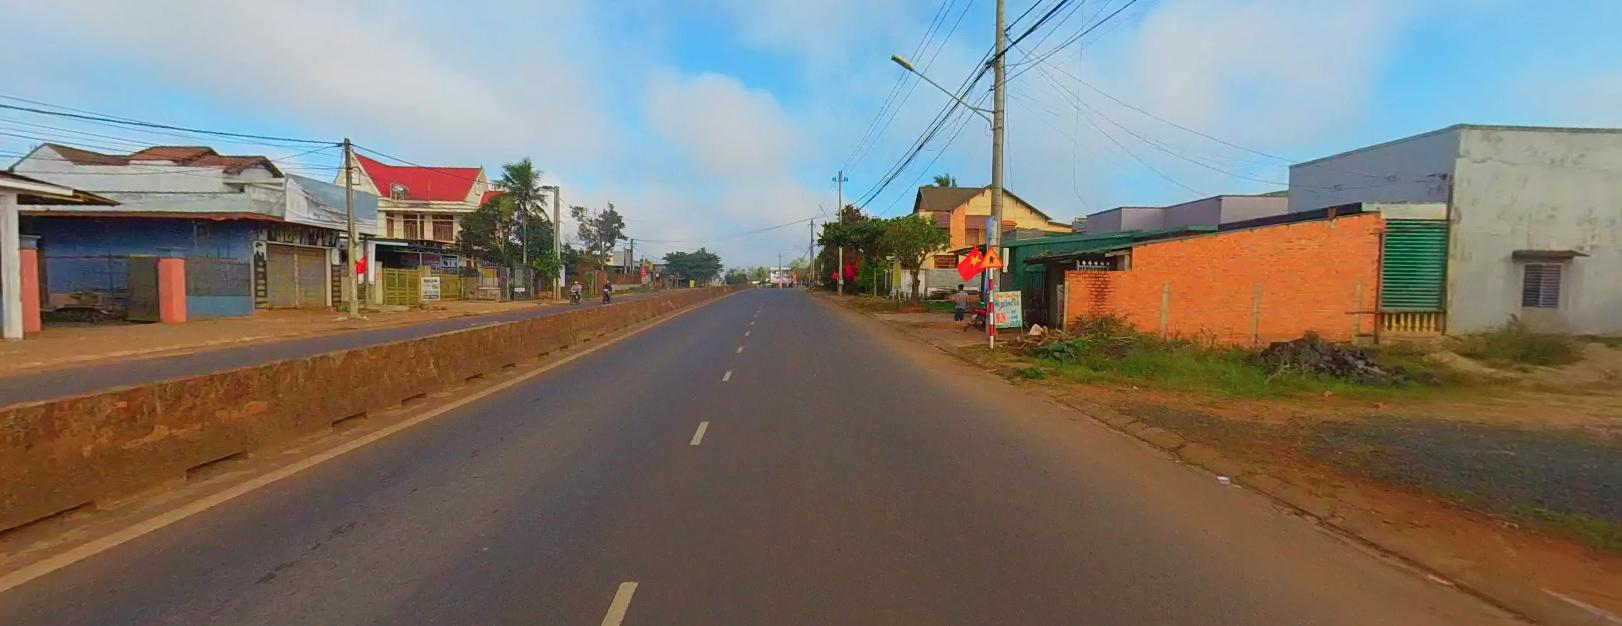Nguy hiem: (977, 245, 1003, 266), (979, 243, 1003, 265), (979, 245, 1003, 265)
